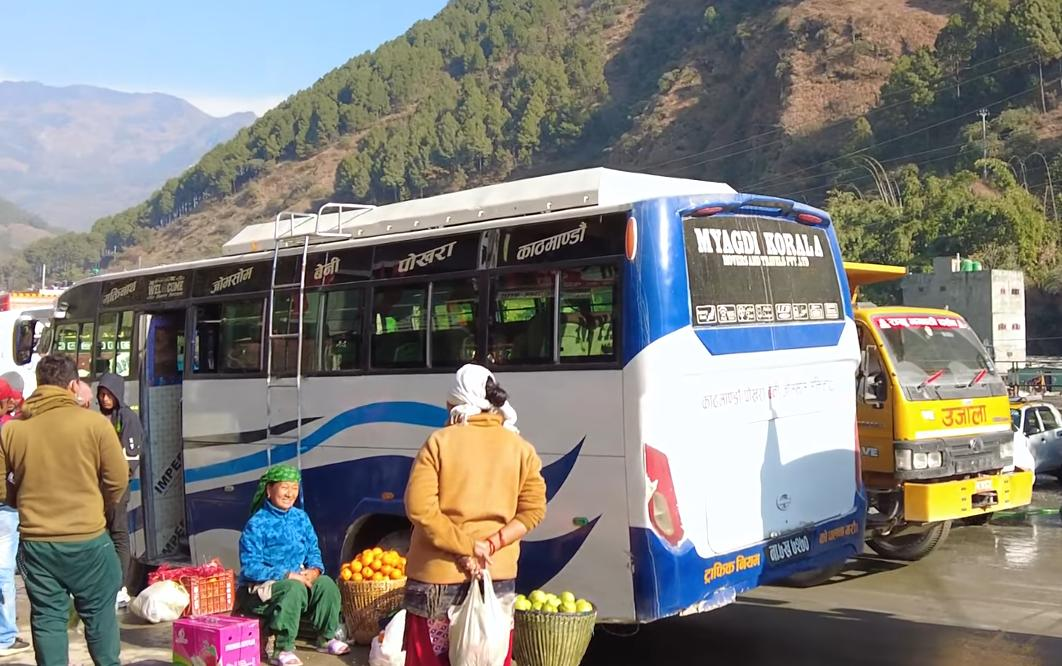bus: (18, 165, 875, 635)
